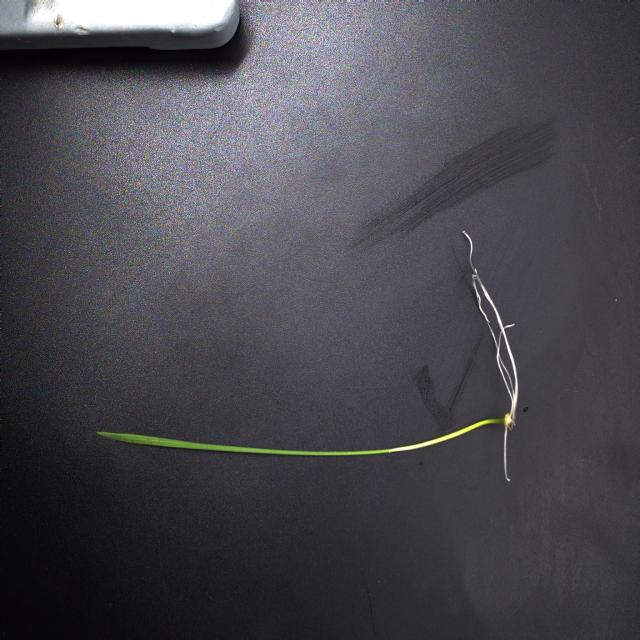leaf: (96, 429, 393, 458)
root: (461, 226, 519, 486)
stem: (390, 418, 507, 453)
